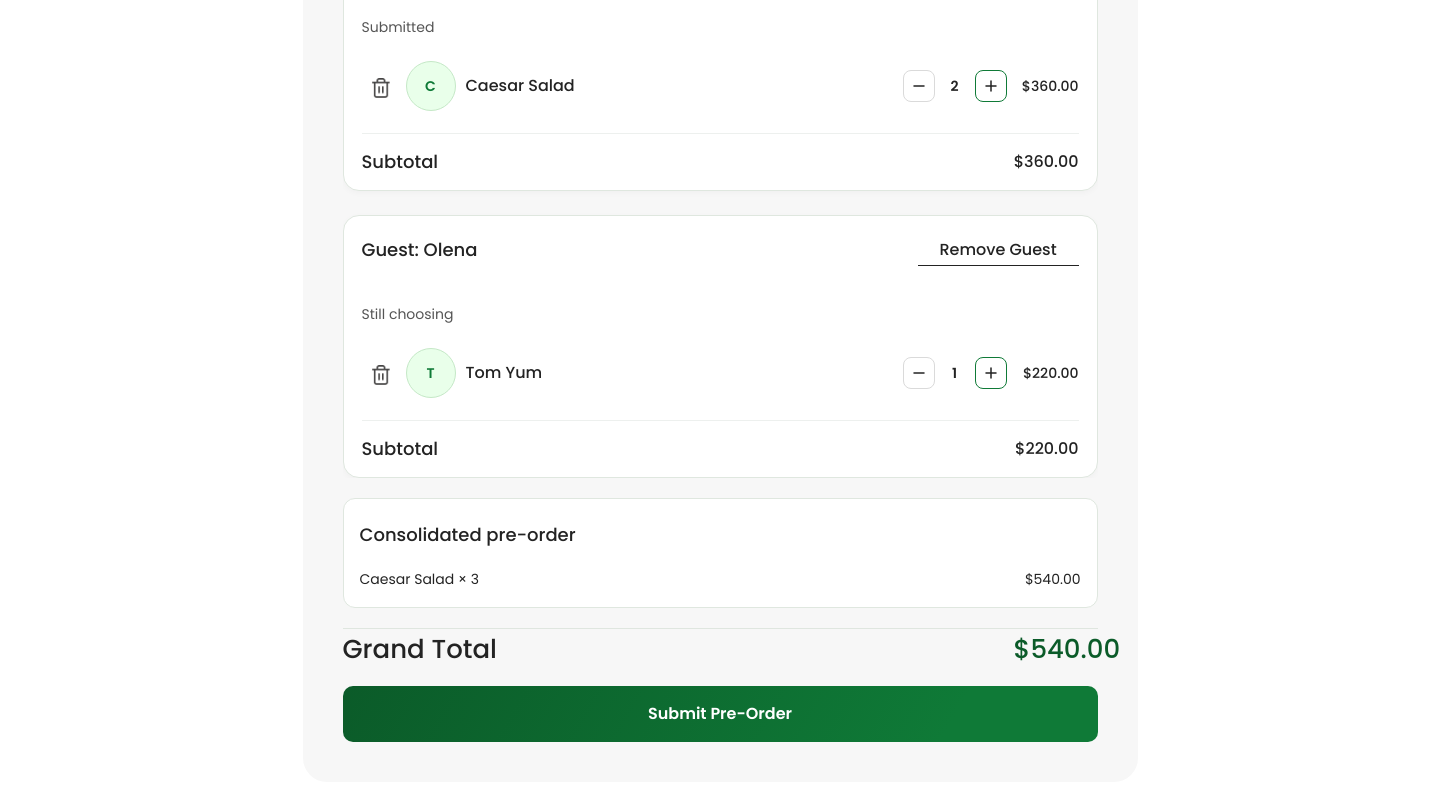
Test: Рівень 2 · сторінка Owner Review › Submit Pre-Order › помилка submit: екран не ламається, кнопку можна натиснути знову
(page scrolled)
Click the button "Submit Pre-Order" at (720, 714), box [342,686,1098,742]
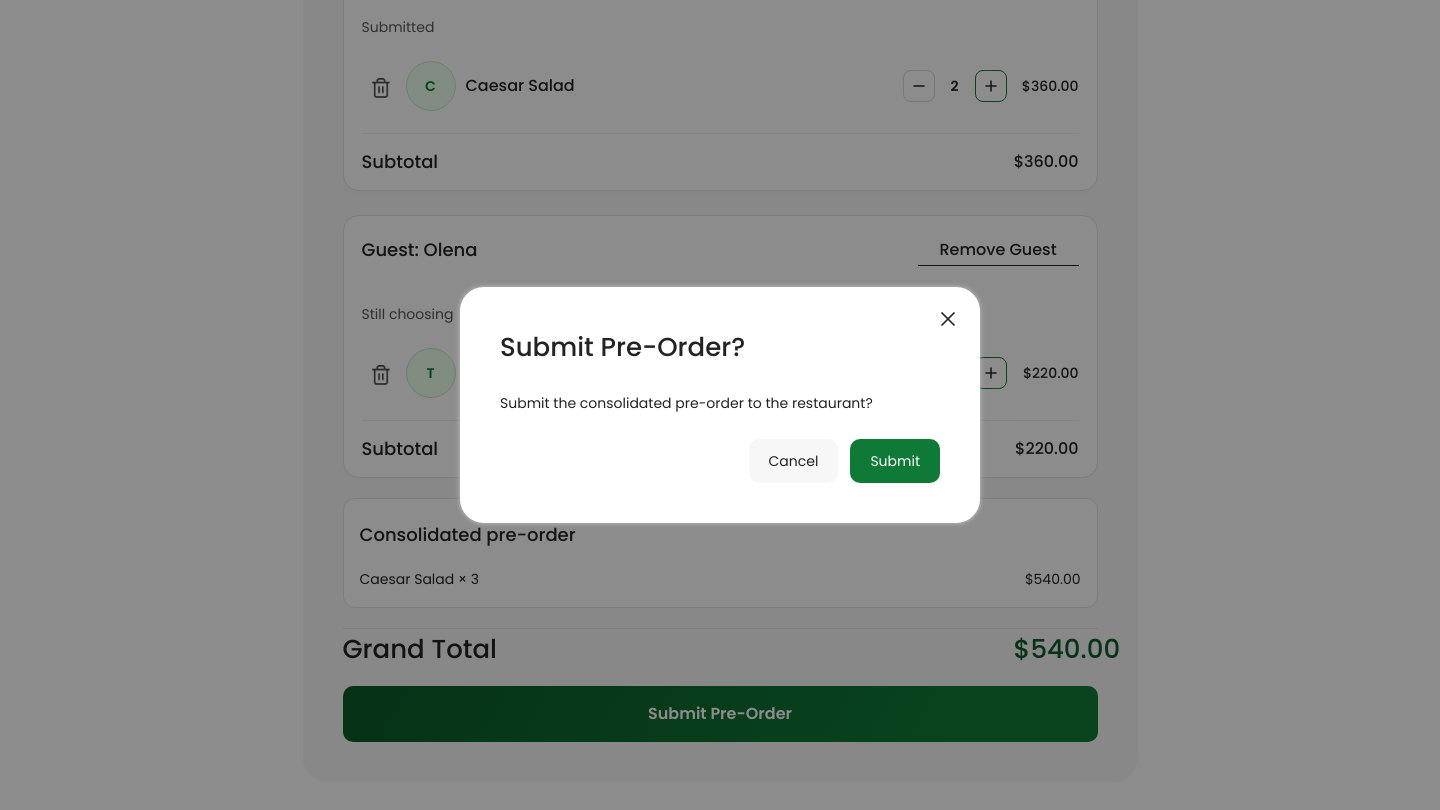
Click the button "Submit" at (895, 461), box [850,439,940,483]
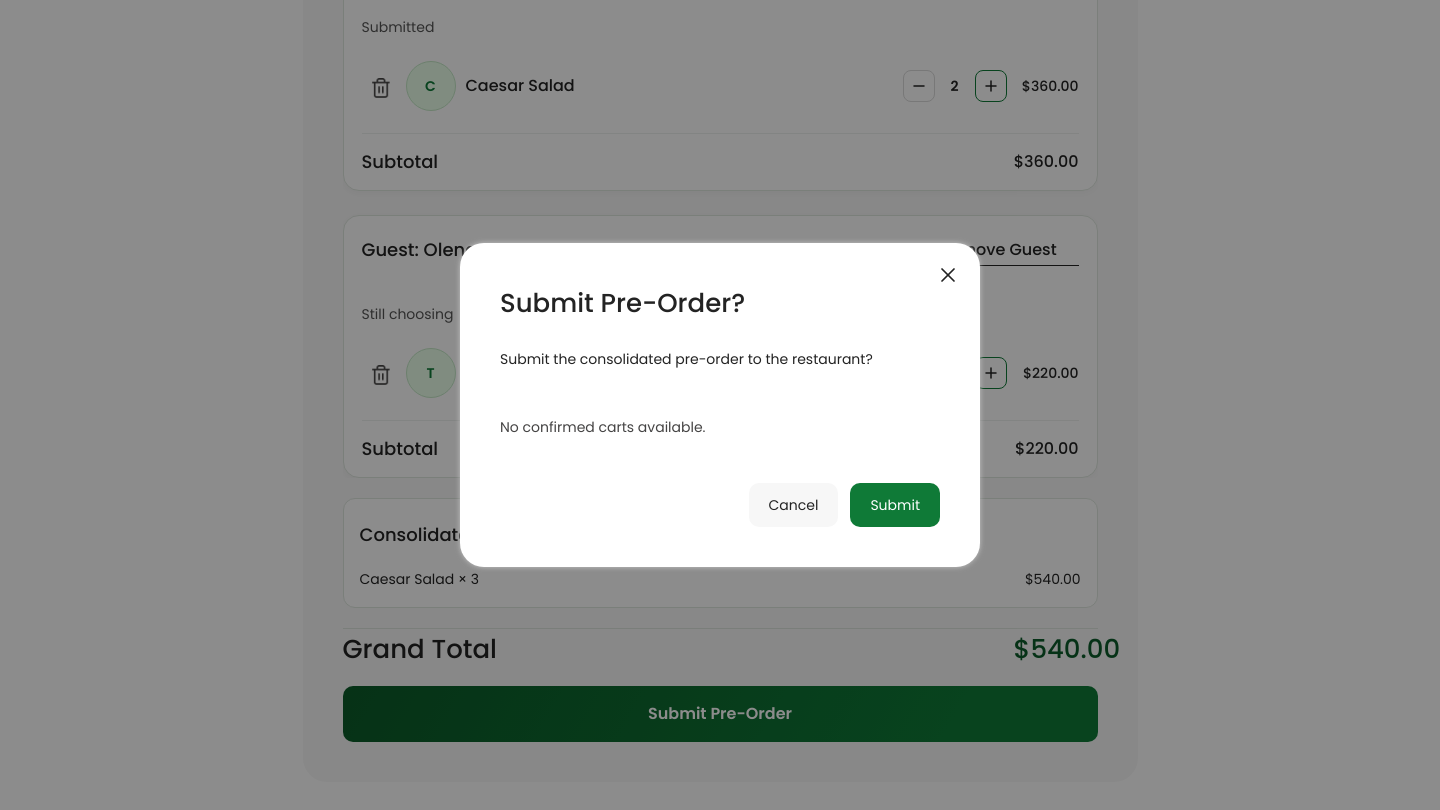
Result: the dialog is shown at [460,243,980,567]
Result: the message "No confirmed carts available." is shown at [500,417,706,437]
